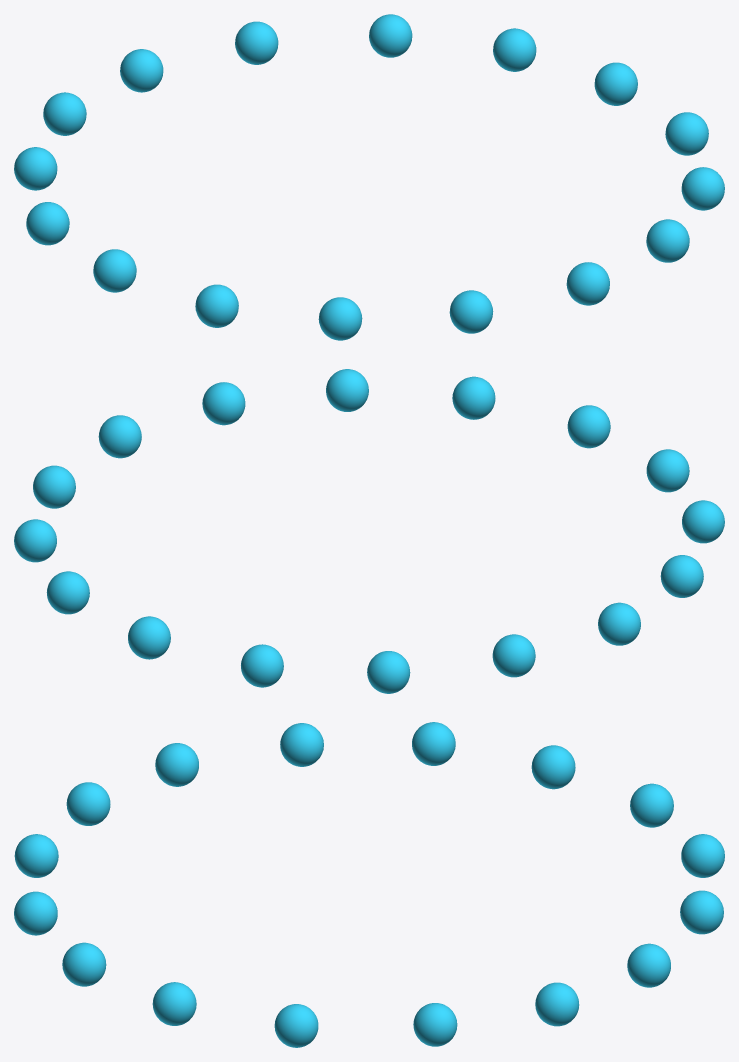
The picture shows the model from 3 angles, top to bottom: view 1: azimuth 30°, elevation 25°; view 2: azimuth 150°, elevation 25°; view 3: azimuth 270°, elevation 25°; orthographic projection.
Parts seen in each view (by area): view 1: Sphere048; view 2: Sphere048; view 3: Sphere048.
Part boxes in pixels (box(x1,y1,x2,y2)): Sphere048: box(14, 14, 724, 340); Sphere048: box(14, 369, 724, 693); Sphere048: box(14, 722, 724, 1047).
Size of the model in its own units: 133 by 8.22 by 133.
